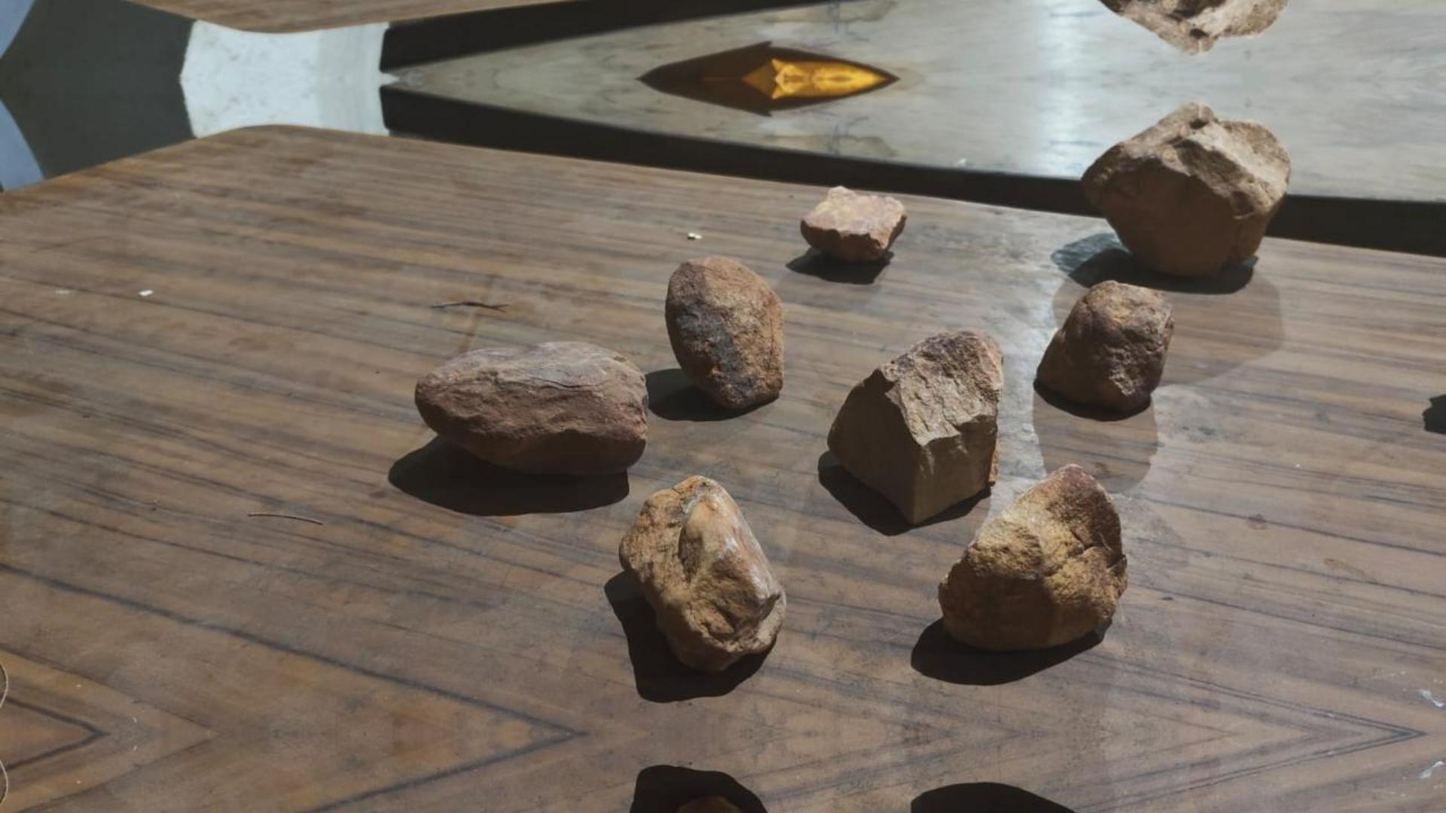rock: (1082, 102, 1289, 276), (939, 464, 1126, 649), (827, 329, 1002, 523), (618, 475, 785, 672), (415, 341, 646, 474), (665, 256, 783, 410), (1036, 281, 1173, 412), (1101, 0, 1288, 53), (800, 186, 906, 261), (629, 792, 766, 812)
